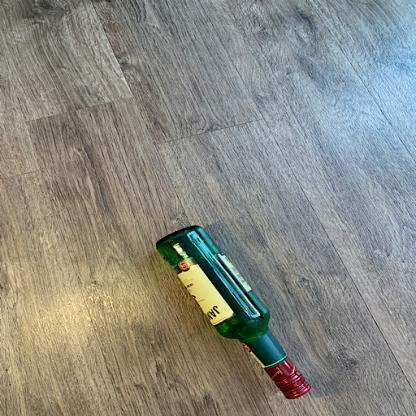trash: (154, 225, 318, 403)
